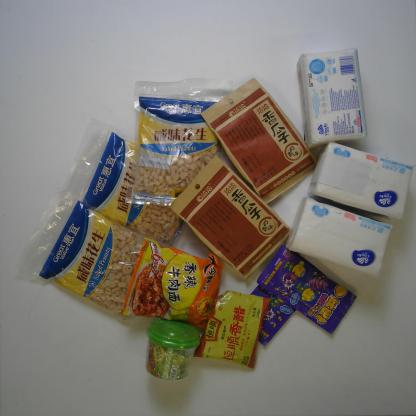Candy: (257, 244, 357, 335), (234, 286, 296, 347)
Dried Food: (200, 78, 321, 206), (170, 155, 292, 280)
Dried Fruit: (19, 190, 184, 324), (57, 119, 212, 246), (125, 76, 234, 209)
Instant Drink: (145, 316, 201, 380)
Instant Noodles: (119, 237, 224, 332)
Seasoner: (194, 290, 272, 369)
Tissue: (286, 196, 392, 278), (308, 142, 414, 220), (296, 47, 367, 149)
